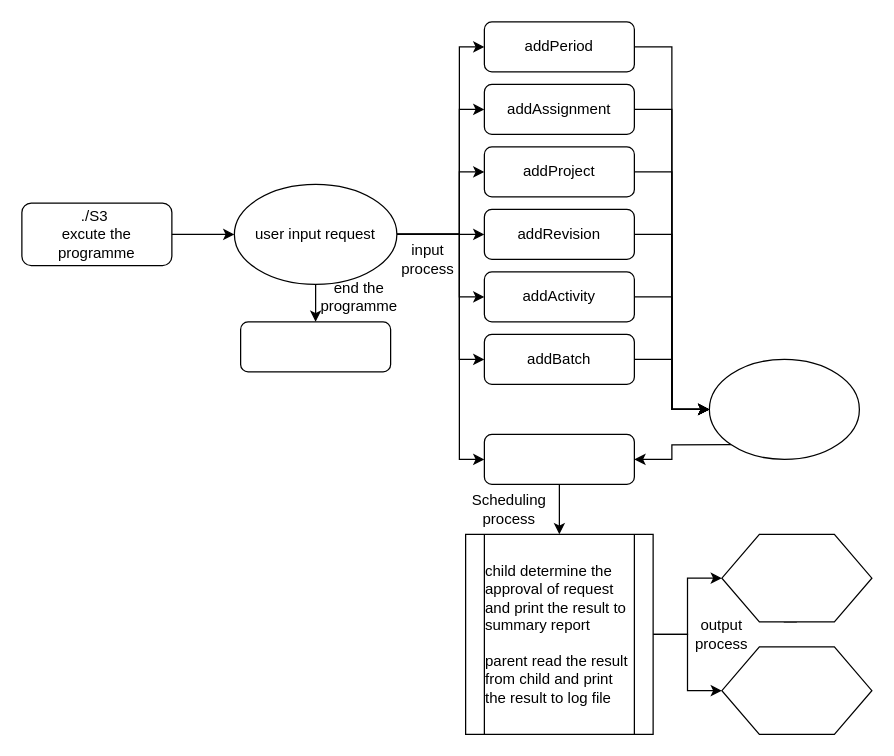
This 894x756 diagram has some shape labels left out. Here are the shapes that lost their labels. From the top down, the centre of each, then its label:
the point at 315,346: exitS3
the point at 783,408: a file store all request
the point at 558,458: runS3
the point at 796,577: Log file
the point at 796,690: Summary report
